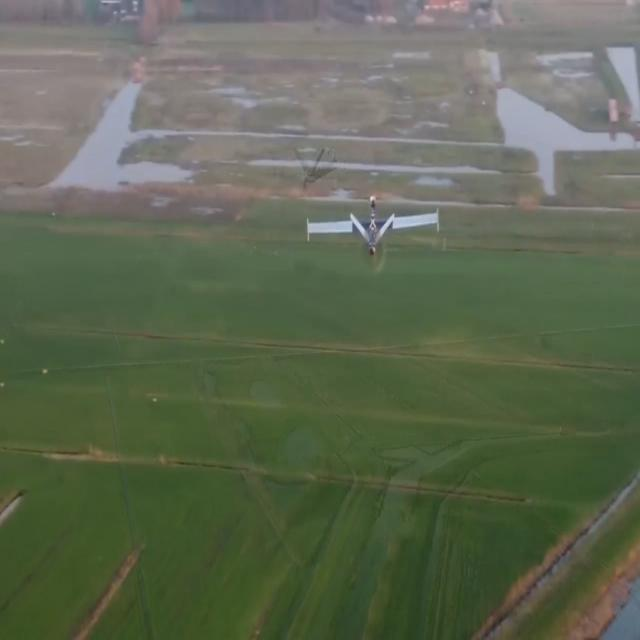iha: (307, 223, 438, 229)
